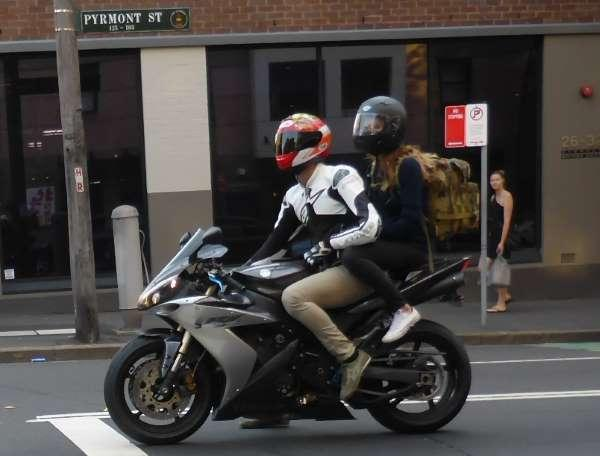helmet: (349, 90, 418, 176), (260, 107, 340, 177)
